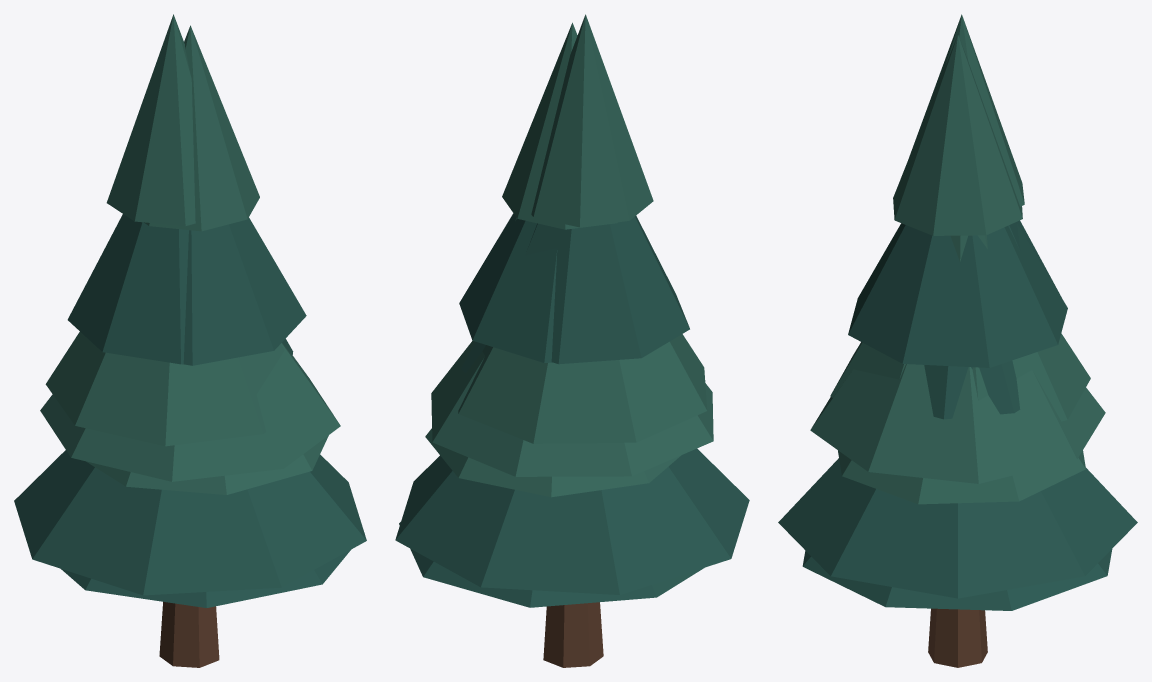
File: tree_pine.glb
3 views of the same model, side by side, from view 1: azimuth 30°, elevation 25°; view 2: azimuth 150°, elevation 25°; view 3: azimuth 270°, elevation 25° (orthographic).
Parts seen in each view (by area): view 1: Pine_canopy_tier, Pine_canopy_tier.009, Pine_canopy_tier.001, Pine_canopy_tier.002, Pine_canopy_tier.010, Pine_canopy_tier.011, Pine_canopy_tier.003, Pine_bare_trunk, Pine_canopy_tier.005, Pine_canopy_tier.004; view 2: Pine_canopy_tier, Pine_canopy_tier.009, Pine_canopy_tier.010, Pine_canopy_tier.011, Pine_canopy_tier.001, Pine_canopy_tier.002, Pine_canopy_tier.003, Pine_canopy_tier.005, Pine_bare_trunk, Pine_canopy_tier.004; view 3: Pine_canopy_tier, Pine_canopy_tier.002, Pine_canopy_tier.001, Pine_canopy_tier.003, Pine_canopy_tier.005, Pine_canopy_tier.009, Pine_canopy_tier.004, Pine_canopy_tier.006, Pine_bare_trunk, Pine_canopy_tier.011.
Boxes of the visible parts, x1,y1,x2,y2 form: Pine_canopy_tier: [14, 450, 366, 595]; Pine_canopy_tier.009: [45, 332, 284, 446]; Pine_canopy_tier.001: [40, 343, 340, 481]; Pine_canopy_tier.002: [182, 217, 306, 365]; Pine_canopy_tier.010: [67, 214, 188, 364]; Pine_canopy_tier.011: [106, 14, 195, 226]; Pine_canopy_tier.003: [144, 25, 259, 231]; Pine_bare_trunk: [159, 601, 219, 667]; Pine_canopy_tier.005: [86, 435, 328, 494]; Pine_canopy_tier.004: [61, 550, 350, 607]; Pine_canopy_tier: [395, 448, 749, 594]; Pine_canopy_tier.009: [458, 334, 707, 443]; Pine_canopy_tier.010: [525, 216, 689, 364]; Pine_canopy_tier.011: [531, 14, 653, 227]; Pine_canopy_tier.001: [431, 340, 713, 476]; Pine_canopy_tier.002: [459, 213, 557, 362]; Pine_canopy_tier.003: [502, 22, 617, 229]; Pine_canopy_tier.005: [425, 428, 680, 497]; Pine_bare_trunk: [543, 602, 603, 667]; Pine_canopy_tier.004: [399, 522, 703, 607]; Pine_canopy_tier: [778, 458, 1137, 598]; Pine_canopy_tier.002: [848, 223, 1067, 367]; Pine_canopy_tier.001: [810, 364, 1105, 483]; Pine_canopy_tier.003: [893, 35, 1022, 235]; Pine_canopy_tier.005: [838, 450, 1085, 504]; Pine_canopy_tier.009: [830, 333, 1090, 421]; Pine_canopy_tier.004: [802, 549, 1112, 610]; Pine_canopy_tier.006: [924, 360, 1020, 419]; Pine_bare_trunk: [928, 608, 987, 667]; Pine_canopy_tier.011: [910, 14, 1024, 206].
Size of the model in its own units: 1.76 by 3.42 by 1.76.
